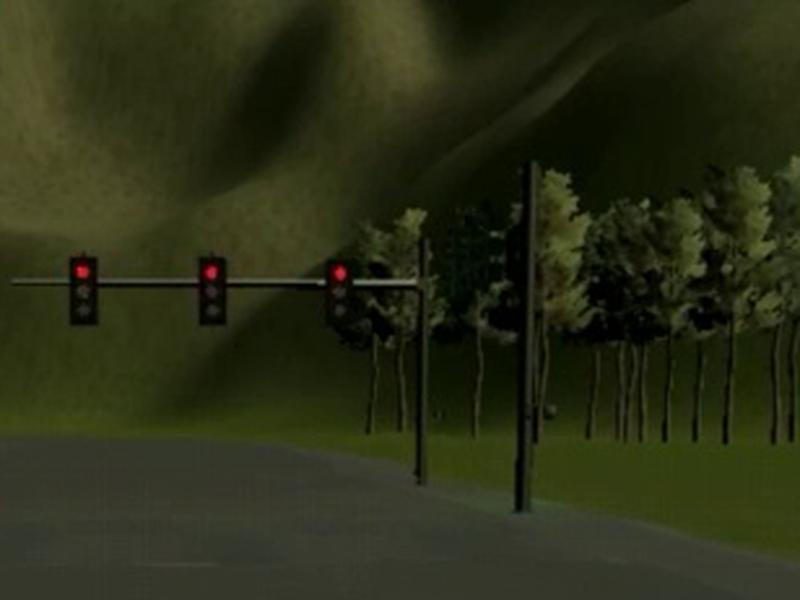Red: (325, 255, 354, 325), (70, 255, 98, 326), (199, 257, 226, 326)
